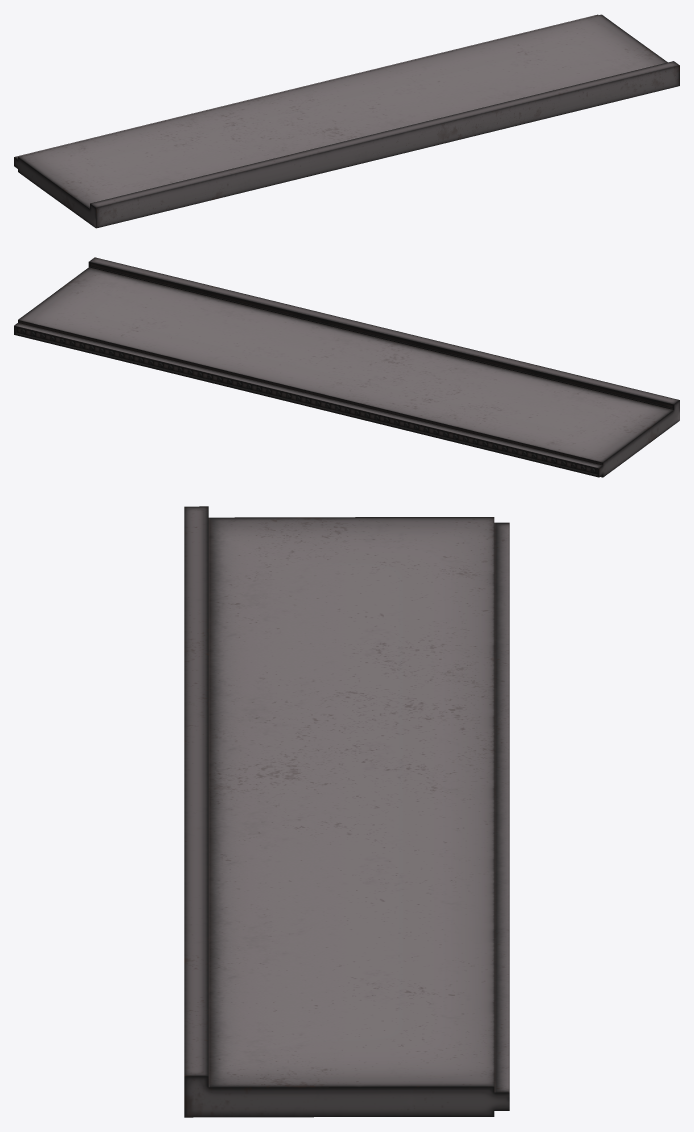
Rendered from Factory_Inside_SecondFloorGround.fbx.
The picture shows the model from 3 angles, top to bottom: view 1: azimuth 30°, elevation 25°; view 2: azimuth 150°, elevation 25°; view 3: azimuth 270°, elevation 25°; orthographic projection. The views are drawn at different scales.
Visible parts, largest first — view 1: Plane.027; view 2: Plane.027; view 3: Plane.027.
Boxes of the visible parts, x1,y1,x2,y2 form: Plane.027: [14, 14, 679, 228]; Plane.027: [14, 257, 679, 477]; Plane.027: [184, 506, 509, 1117].
Bounding box in the file's own units: 1821 × 61.11 × 439.
1 material, 1 textured.
